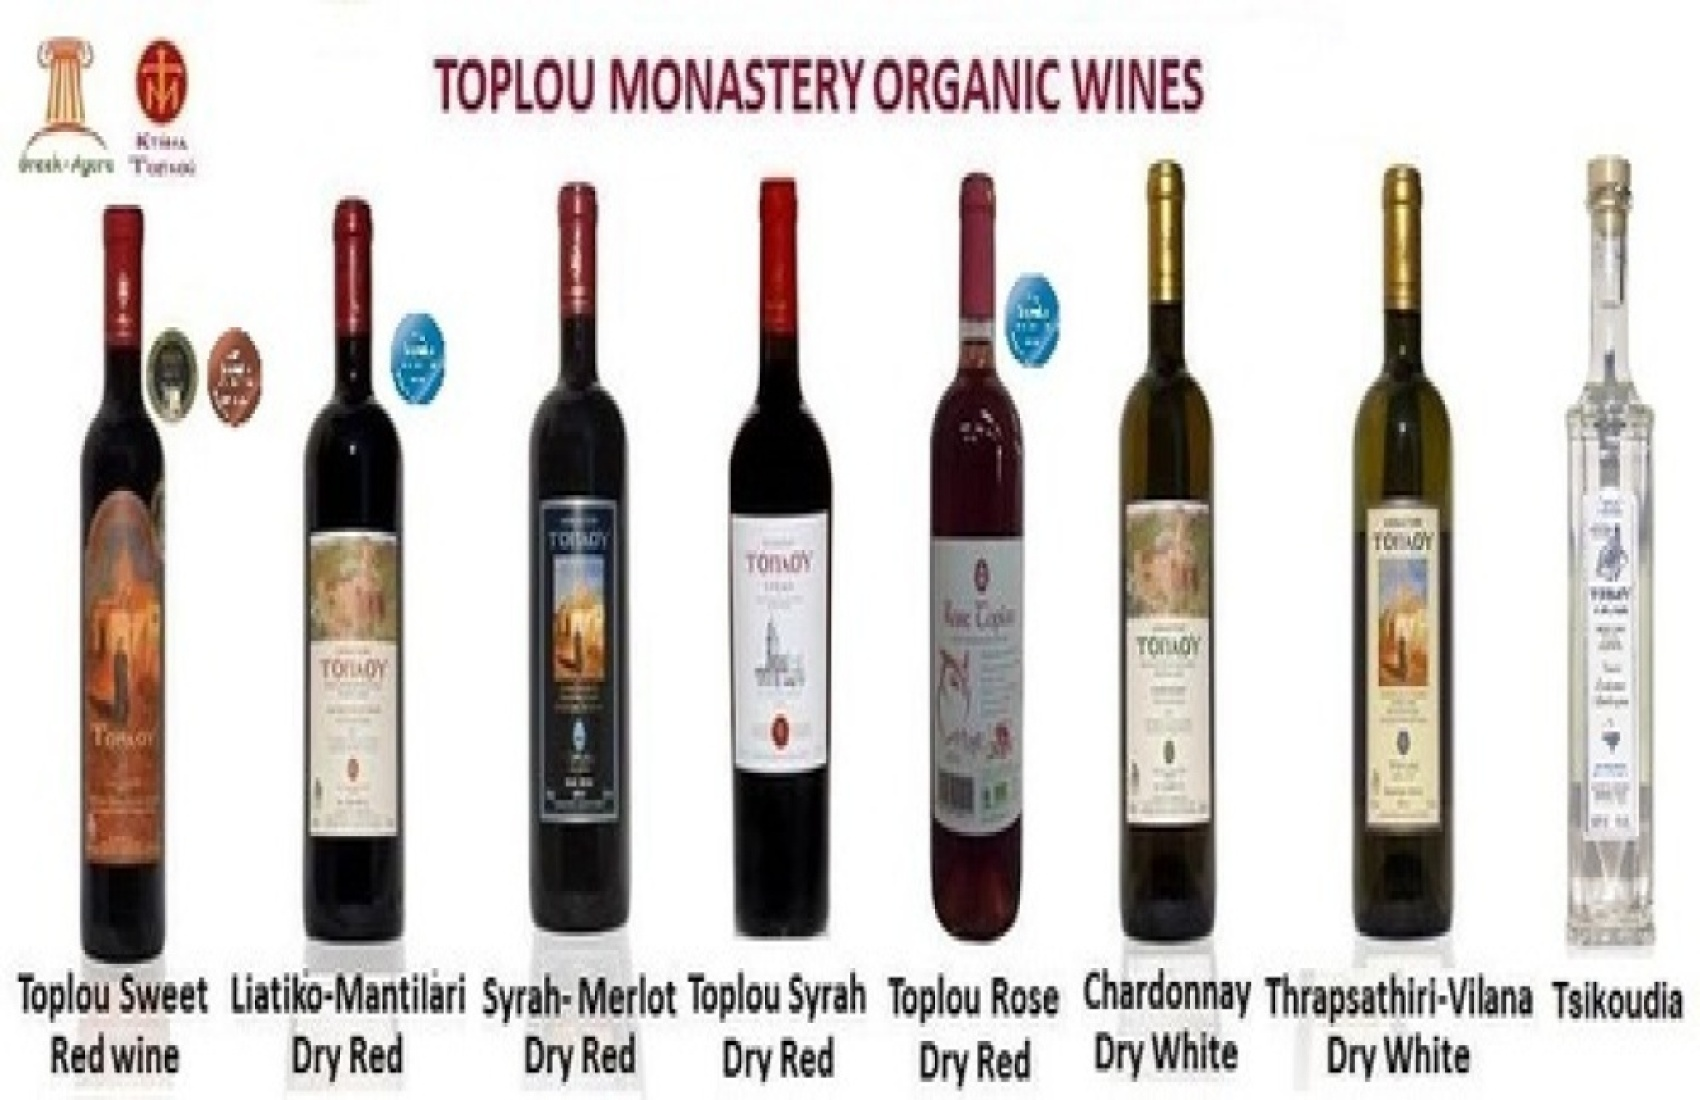wine: (738, 176, 838, 924), (76, 207, 173, 955), (311, 198, 409, 946), (528, 191, 626, 939), (928, 193, 1026, 941), (1349, 191, 1447, 939), (1560, 187, 1658, 935), (1116, 190, 1214, 936)
